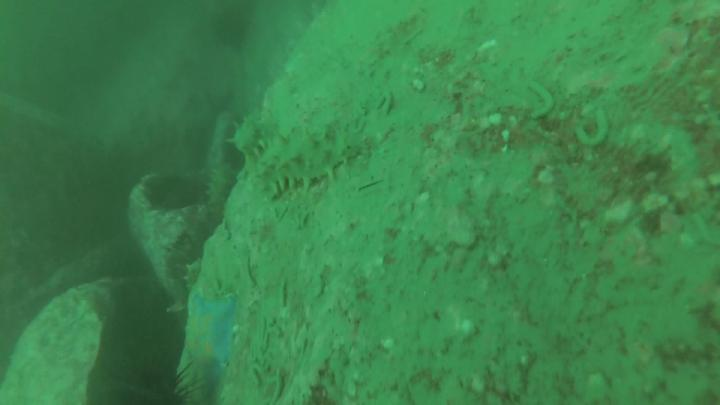echinus: (94, 365, 197, 405), (138, 170, 212, 214), (207, 9, 253, 55)
holothurian: (254, 121, 371, 199), (230, 109, 270, 158), (205, 162, 238, 215)
starfish: (179, 293, 241, 385)
